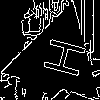H: (33, 33, 87, 80)
